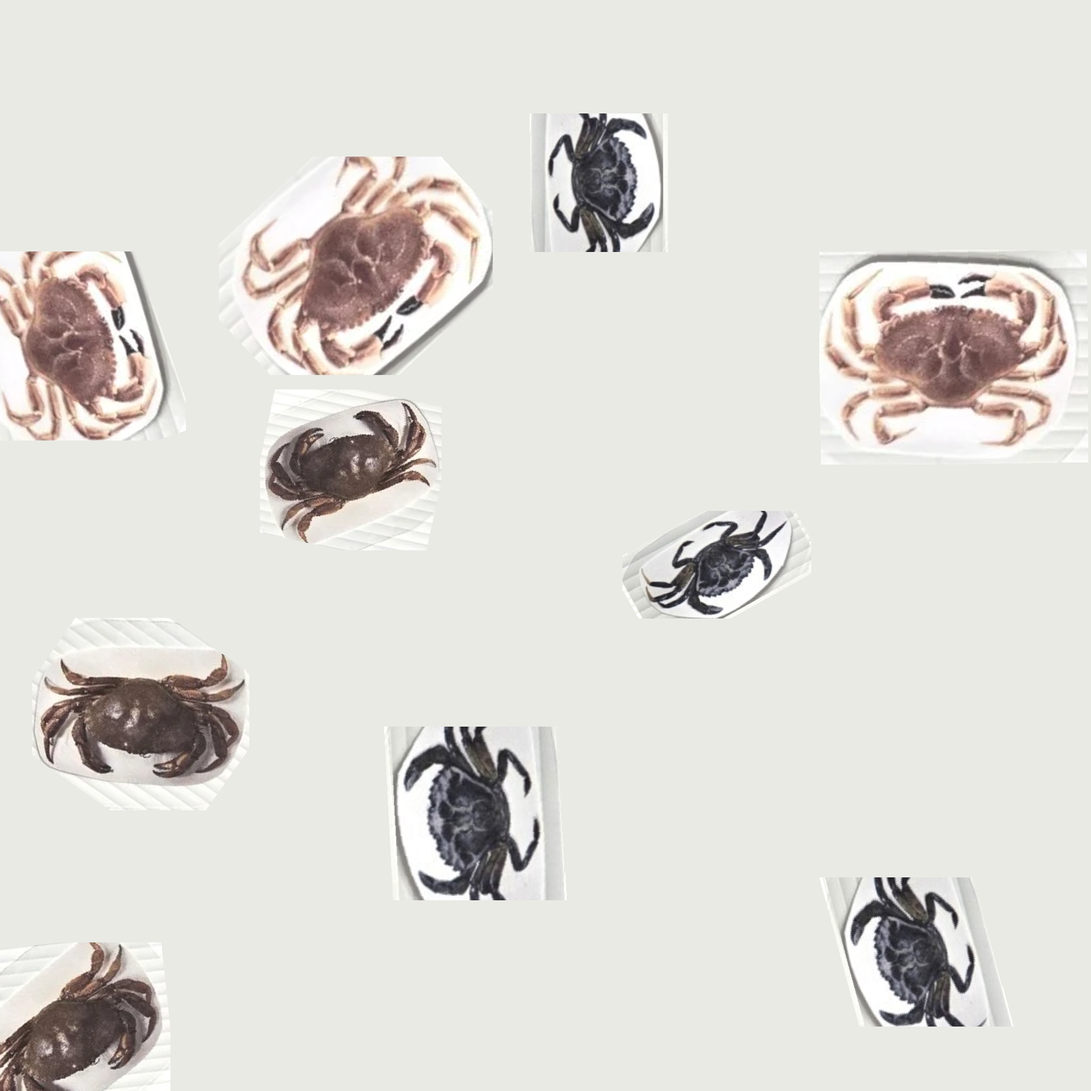evil: (806, 854, 1053, 1048), (384, 730, 574, 911), (546, 100, 674, 270), (631, 498, 797, 612)
normal: (787, 256, 1086, 470), (242, 171, 479, 365), (247, 403, 451, 574), (47, 636, 242, 792), (0, 930, 166, 1091), (0, 270, 171, 422)
